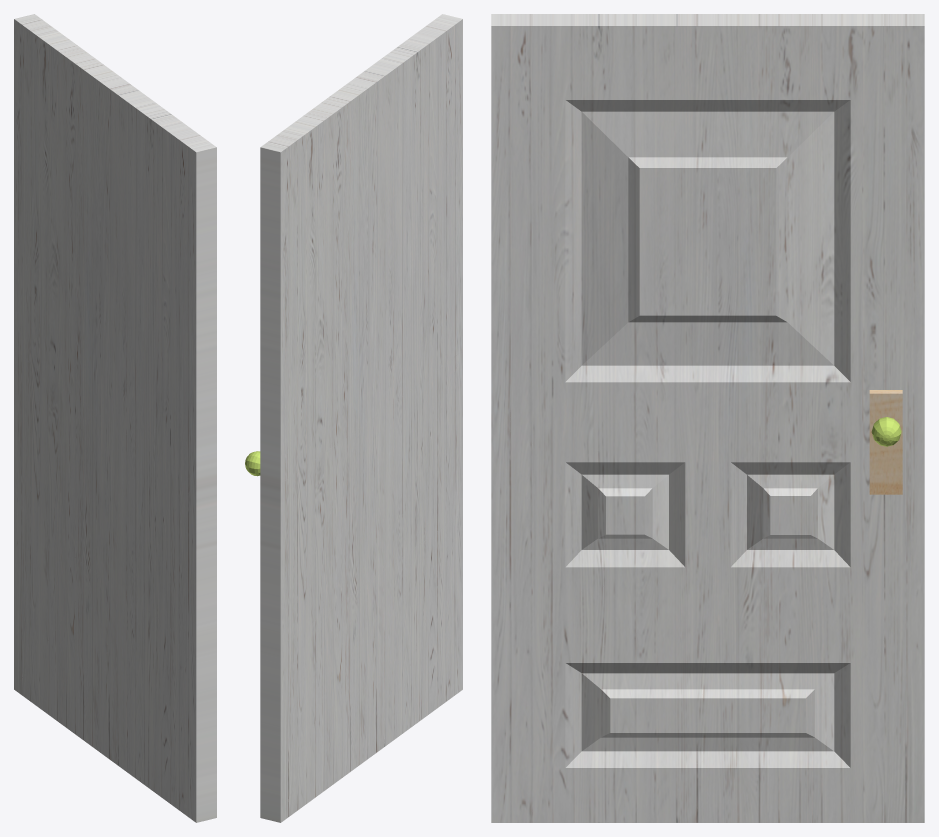
File: PuertaB.obj
3 views of the same model, side by side, from view 1: azimuth 30°, elevation 25°; view 2: azimuth 150°, elevation 25°; view 3: azimuth 270°, elevation 25° (orthographic). The views are drawn at different scales.
Parts seen in each view (by area): view 1: Box798; view 2: Box798; view 3: Box798.
Part boxes in pixels (x1,y1,x2,y2): Box798: (14, 14, 216, 822); Box798: (245, 14, 462, 822); Box798: (491, 14, 924, 822).
Size of the model in its own units: 0.2687 by 3.44 by 1.69.
3 materials, 3 textured.
